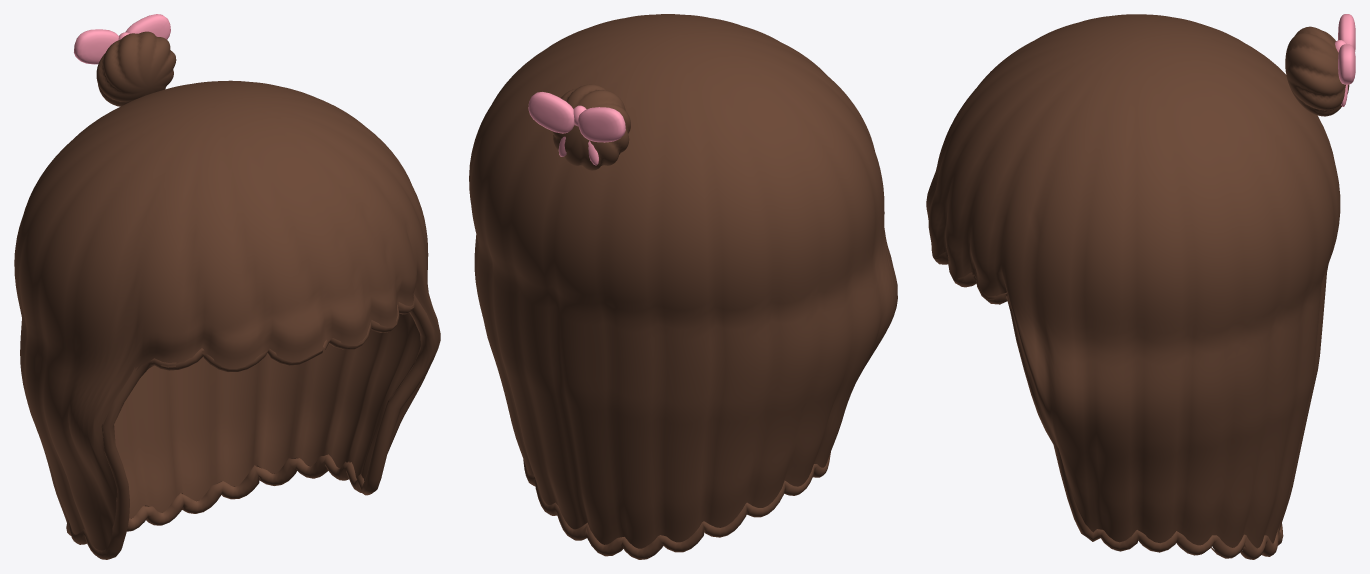
The model's file is hair_g_halfup.glb.
The picture shows the model from 3 angles, left to right: view 1: azimuth 30°, elevation 25°; view 2: azimuth 150°, elevation 25°; view 3: azimuth 270°, elevation 25°; orthographic projection. The views are drawn at different scales.
Visible parts, largest first — view 1: Hair_G_HALFUP; view 2: Hair_G_HALFUP; view 3: Hair_G_HALFUP.
Boxes of the visible parts, x1,y1,x2,y2 form: Hair_G_HALFUP: (14,14,440,559); Hair_G_HALFUP: (469,14,897,559); Hair_G_HALFUP: (926,14,1355,559).
Bounding box in the file's own units: 0.6129 × 0.7647 × 0.584.
